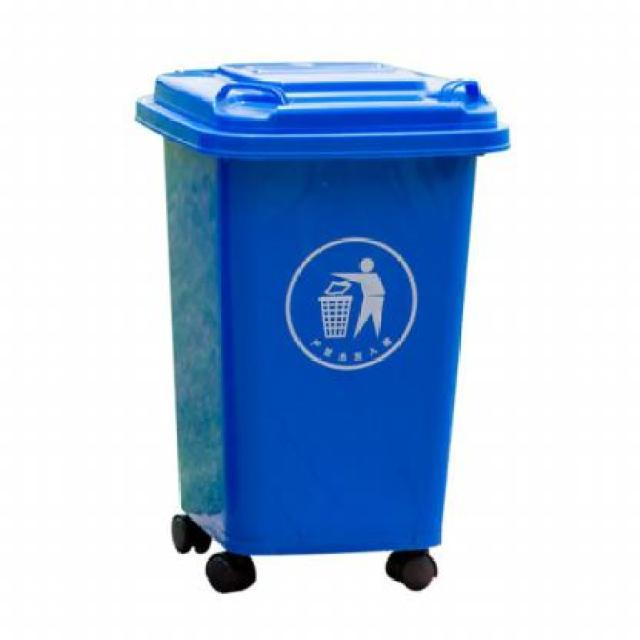garbage container: (118, 52, 527, 631)
